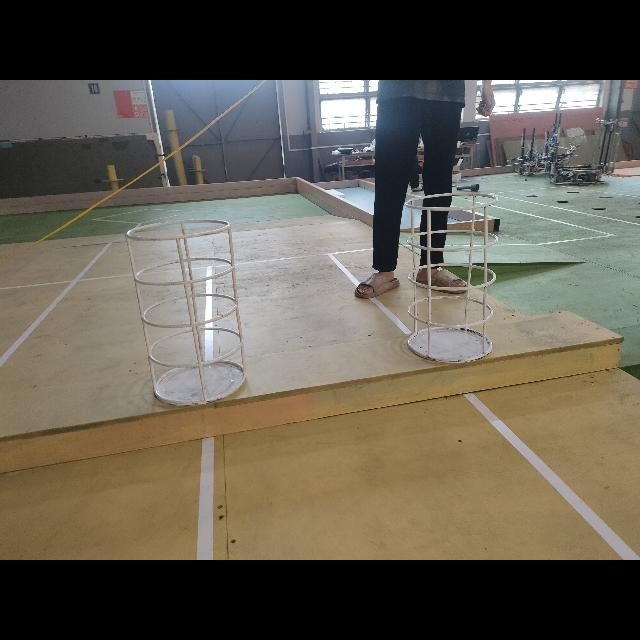S: (122, 214, 258, 408), (406, 186, 499, 368)
